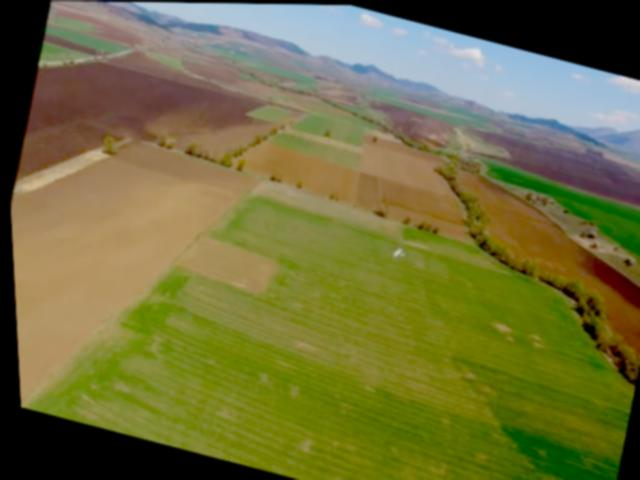uav: (385, 238, 409, 264)
